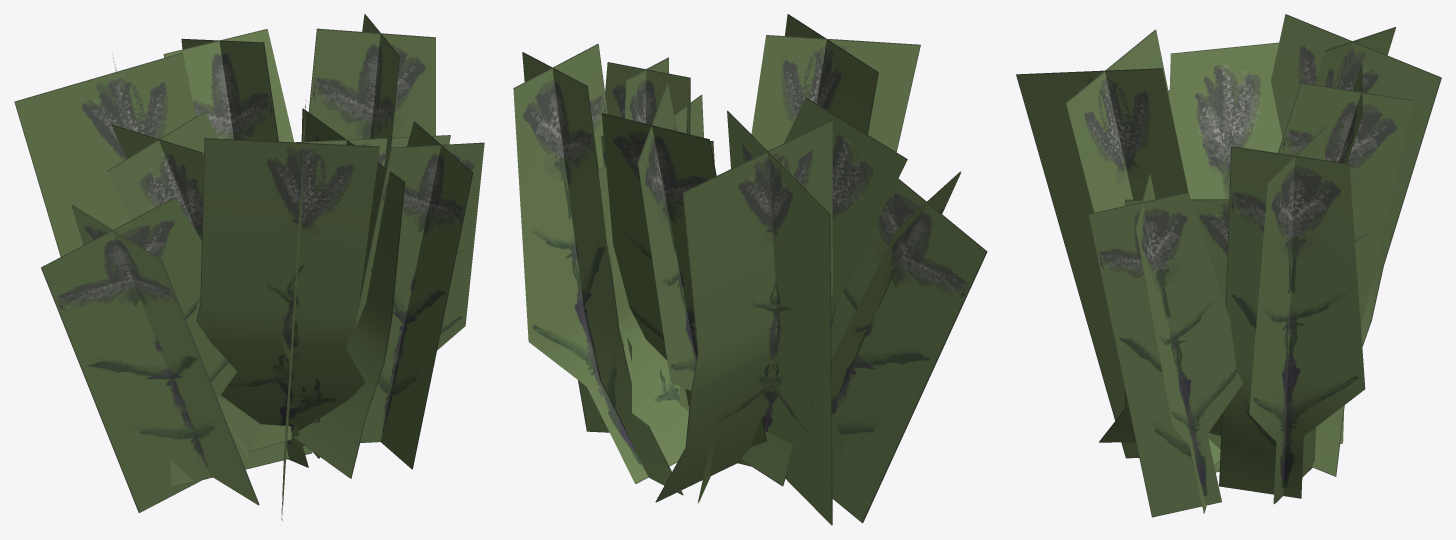
File: BgMD_Tanihira_PlantOhishiba_01_01.fbx
The picture shows the model from 3 angles, left to right: view 1: azimuth 30°, elevation 25°; view 2: azimuth 150°, elevation 25°; view 3: azimuth 270°, elevation 25°; orthographic projection. The views are drawn at different scales.
Parts seen in each view (by area): view 1: polySurface22; view 2: polySurface22; view 3: polySurface22.
Boxes of the visible parts, x1,y1,x2,y2 form: polySurface22: (14,14,484,520); polySurface22: (513,14,987,525); polySurface22: (1016,14,1441,517).
Size of the model in its own units: 23.49 by 21.84 by 20.22.
